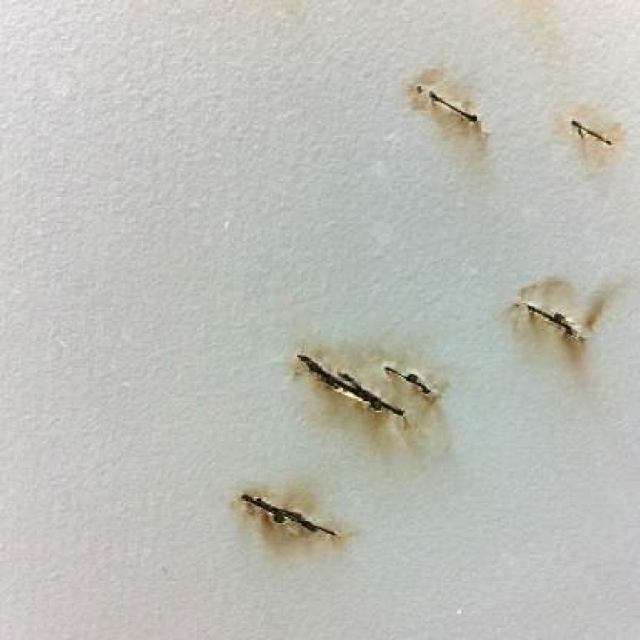crack: (300, 354, 400, 416), (245, 499, 333, 533), (417, 85, 479, 128), (523, 300, 580, 336), (572, 122, 614, 145), (389, 368, 429, 388)
